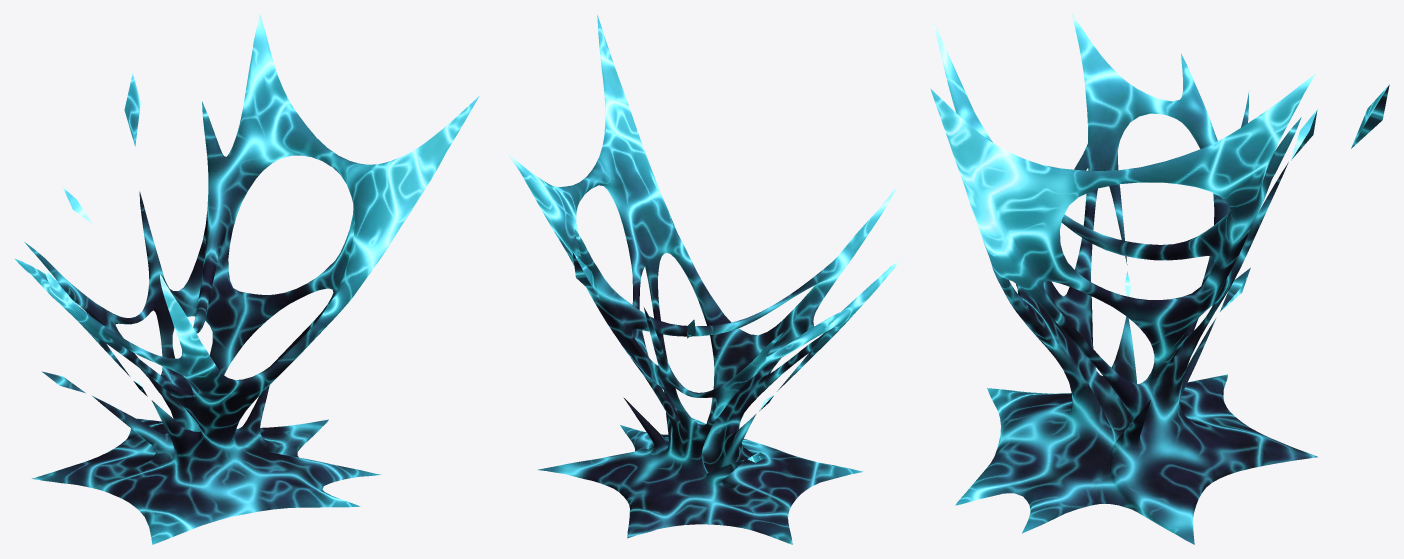
Rendered from caos_hro_chaosconfluence_01a_v35.glb.
The picture shows the model from 3 angles, left to right: view 1: azimuth 30°, elevation 25°; view 2: azimuth 150°, elevation 25°; view 3: azimuth 270°, elevation 25°; orthographic projection. The views are drawn at different scales.
Visible parts, largest first — view 1: caos_hro_chaosconfluence_01a; view 2: caos_hro_chaosconfluence_01a; view 3: caos_hro_chaosconfluence_01a.
Part boxes in pixels (x1,y1,x2,y2): caos_hro_chaosconfluence_01a: [14, 14, 479, 544]; caos_hro_chaosconfluence_01a: [509, 15, 900, 544]; caos_hro_chaosconfluence_01a: [930, 14, 1389, 544].
Size of the model in its own units: 25.11 by 24.85 by 21.42.
Materials: 1 (1 with a texture image).
